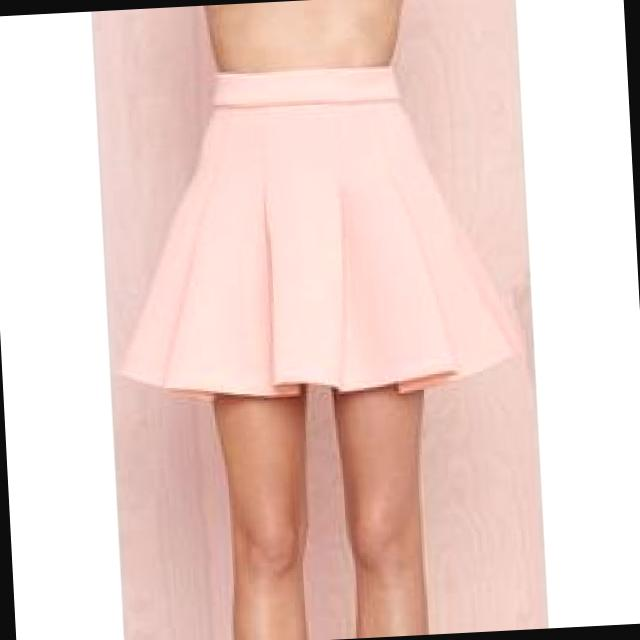skirt: (103, 54, 530, 410)
